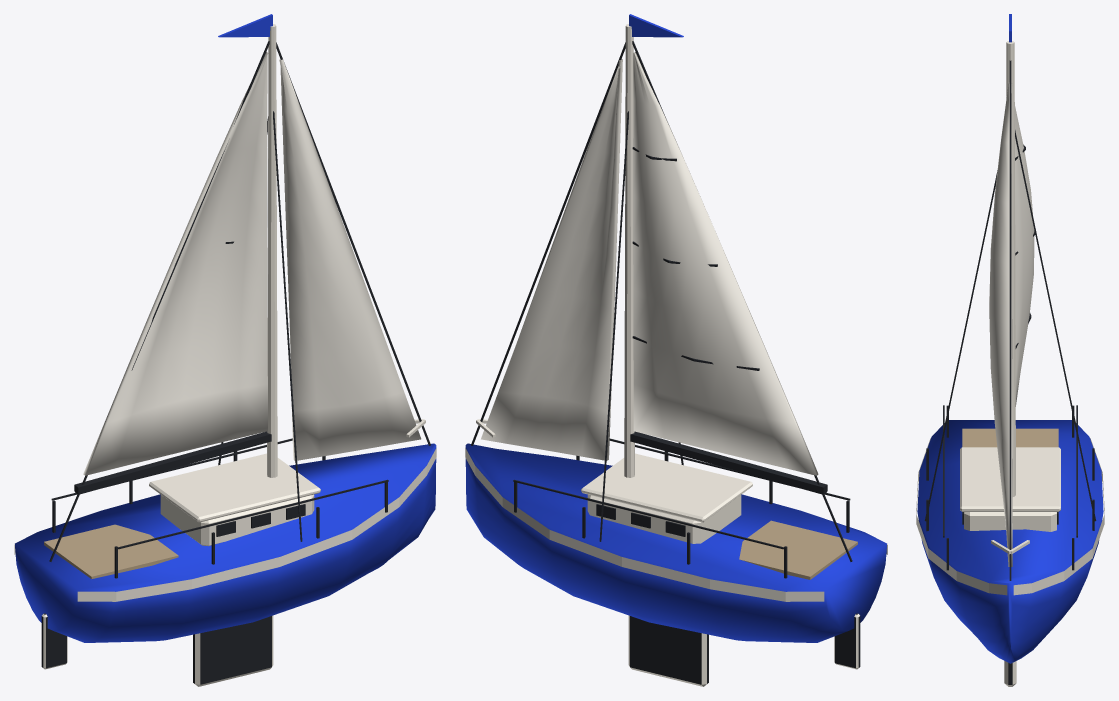
File: sailboat.glb
3 renders of one model, left to right at view 1: azimuth 30°, elevation 25°; view 2: azimuth 150°, elevation 25°; view 3: azimuth 270°, elevation 25°, orthographic.
Visible parts, largest first — view 1: Hull, Mainsail, Jib, Rig, Cabin, SheerStripe, BoomSpar, PennantFlag; view 2: Hull, Mainsail, Jib, Rig, Cabin, SheerStripe, BoomSpar, PennantFlag; view 3: Hull, Cabin, Jib, Rig, Mainsail, SheerStripe.
Boxes of the visible parts, <box> form: Hull: <box>15,443,436,642</box>; Mainsail: <box>83,51,268,475</box>; Jib: <box>279,59,421,460</box>; Rig: <box>41,24,430,686</box>; Cabin: <box>44,453,320,578</box>; SheerStripe: <box>14,448,436,601</box>; BoomSpar: <box>74,431,271,494</box>; PennantFlag: <box>218,14,272,37</box>; Hull: <box>465,443,886,642</box>; Mainsail: <box>633,52,818,475</box>; Jib: <box>481,59,622,460</box>; Rig: <box>471,24,860,686</box>; Cabin: <box>581,453,857,579</box>; SheerStripe: <box>465,448,887,601</box>; BoomSpar: <box>630,431,827,494</box>; PennantFlag: <box>629,14,683,37</box>; Hull: <box>917,420,1103,663</box>; Cabin: <box>960,428,1060,531</box>; Jib: <box>989,82,1012,566</box>; Rig: <box>924,41,1096,686</box>; Mainsail: <box>1014,102,1034,406</box>; SheerStripe: <box>916,438,1104,595</box>.
Bounding box in the file's own units: 4.51 × 7.17 × 1.86.
